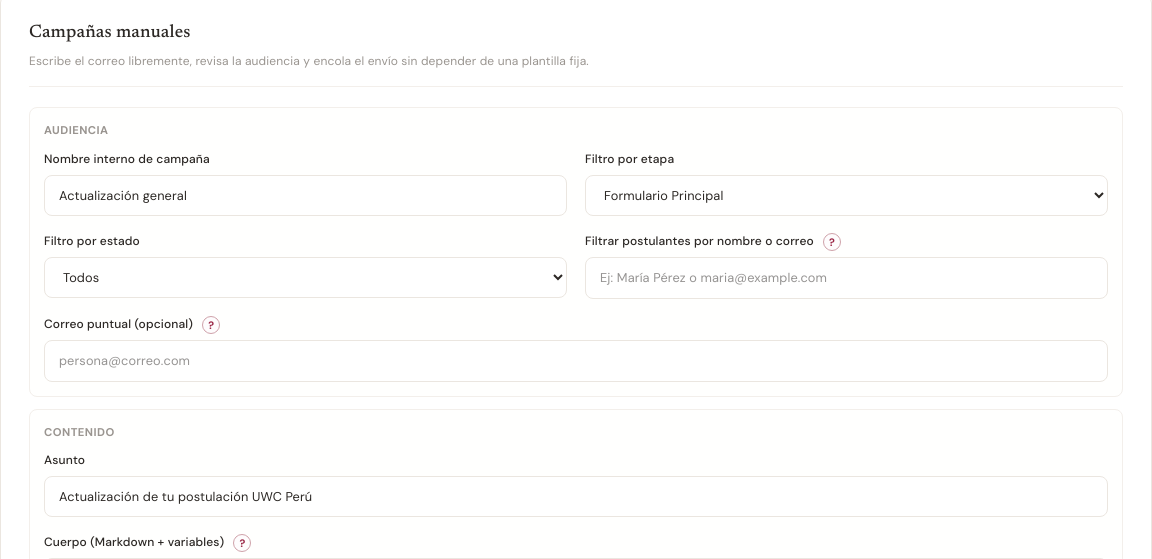
Test: AdminCommunicationsCenter › shows direct-send confirmation copy when a single recipient email is present
The image size is (1152, 559).
(page scrolled)
Type "dafirebanks@gmail.com" into the field labelled "Correo puntual (opcional)" at (576, 361), box [44,340,1108,382]
(page scrolled)
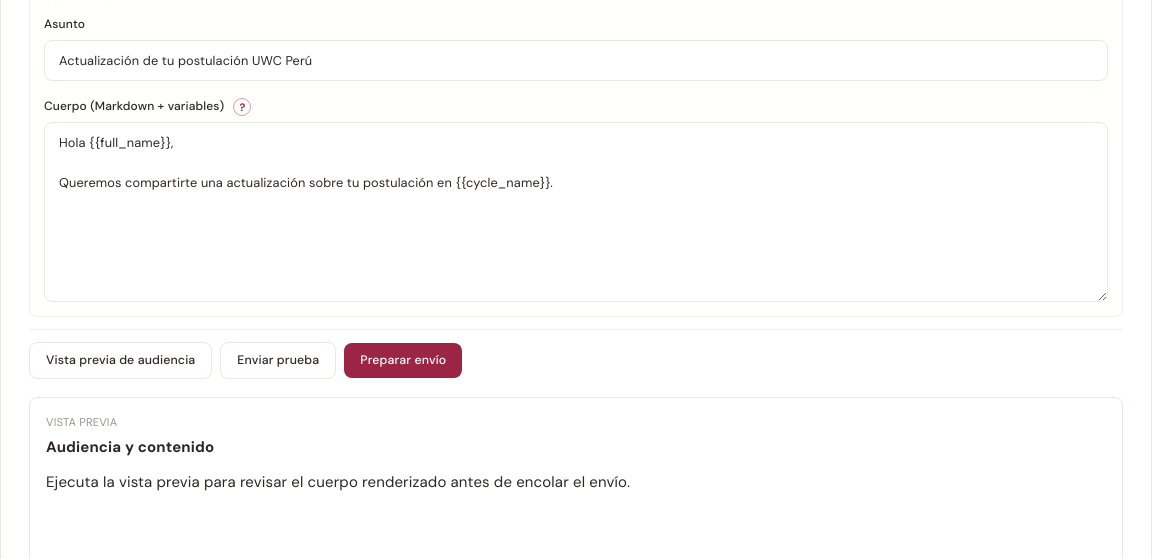
Click the button "Preparar envío" at (403, 361), box [344,343,462,378]
(page scrolled)
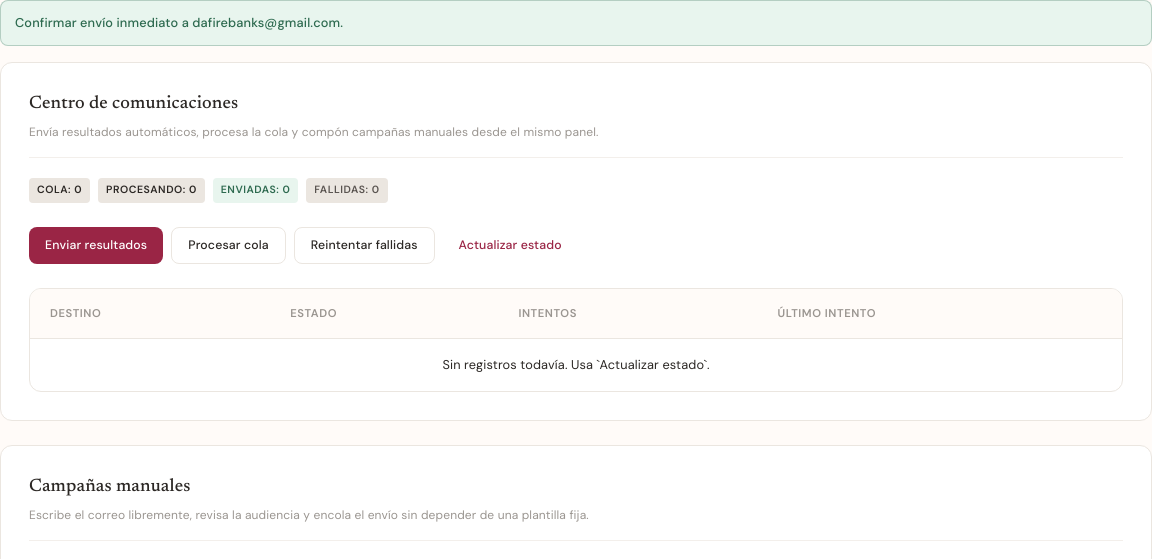
Check: the text "Confirmar envío inmediato a dafirebanks@gmail.com." is shown, box [0,0,1151,46]
